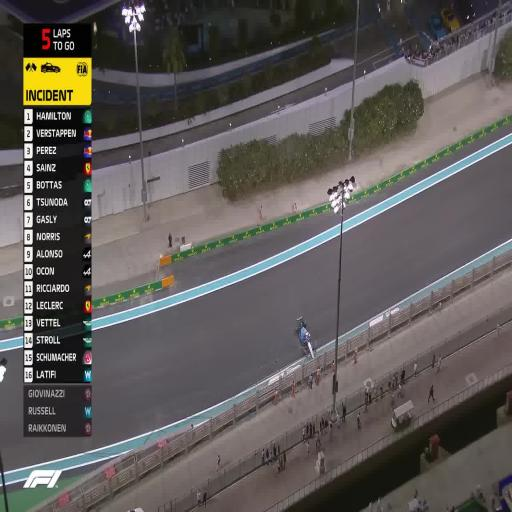f1_car: (295, 317, 315, 357)
